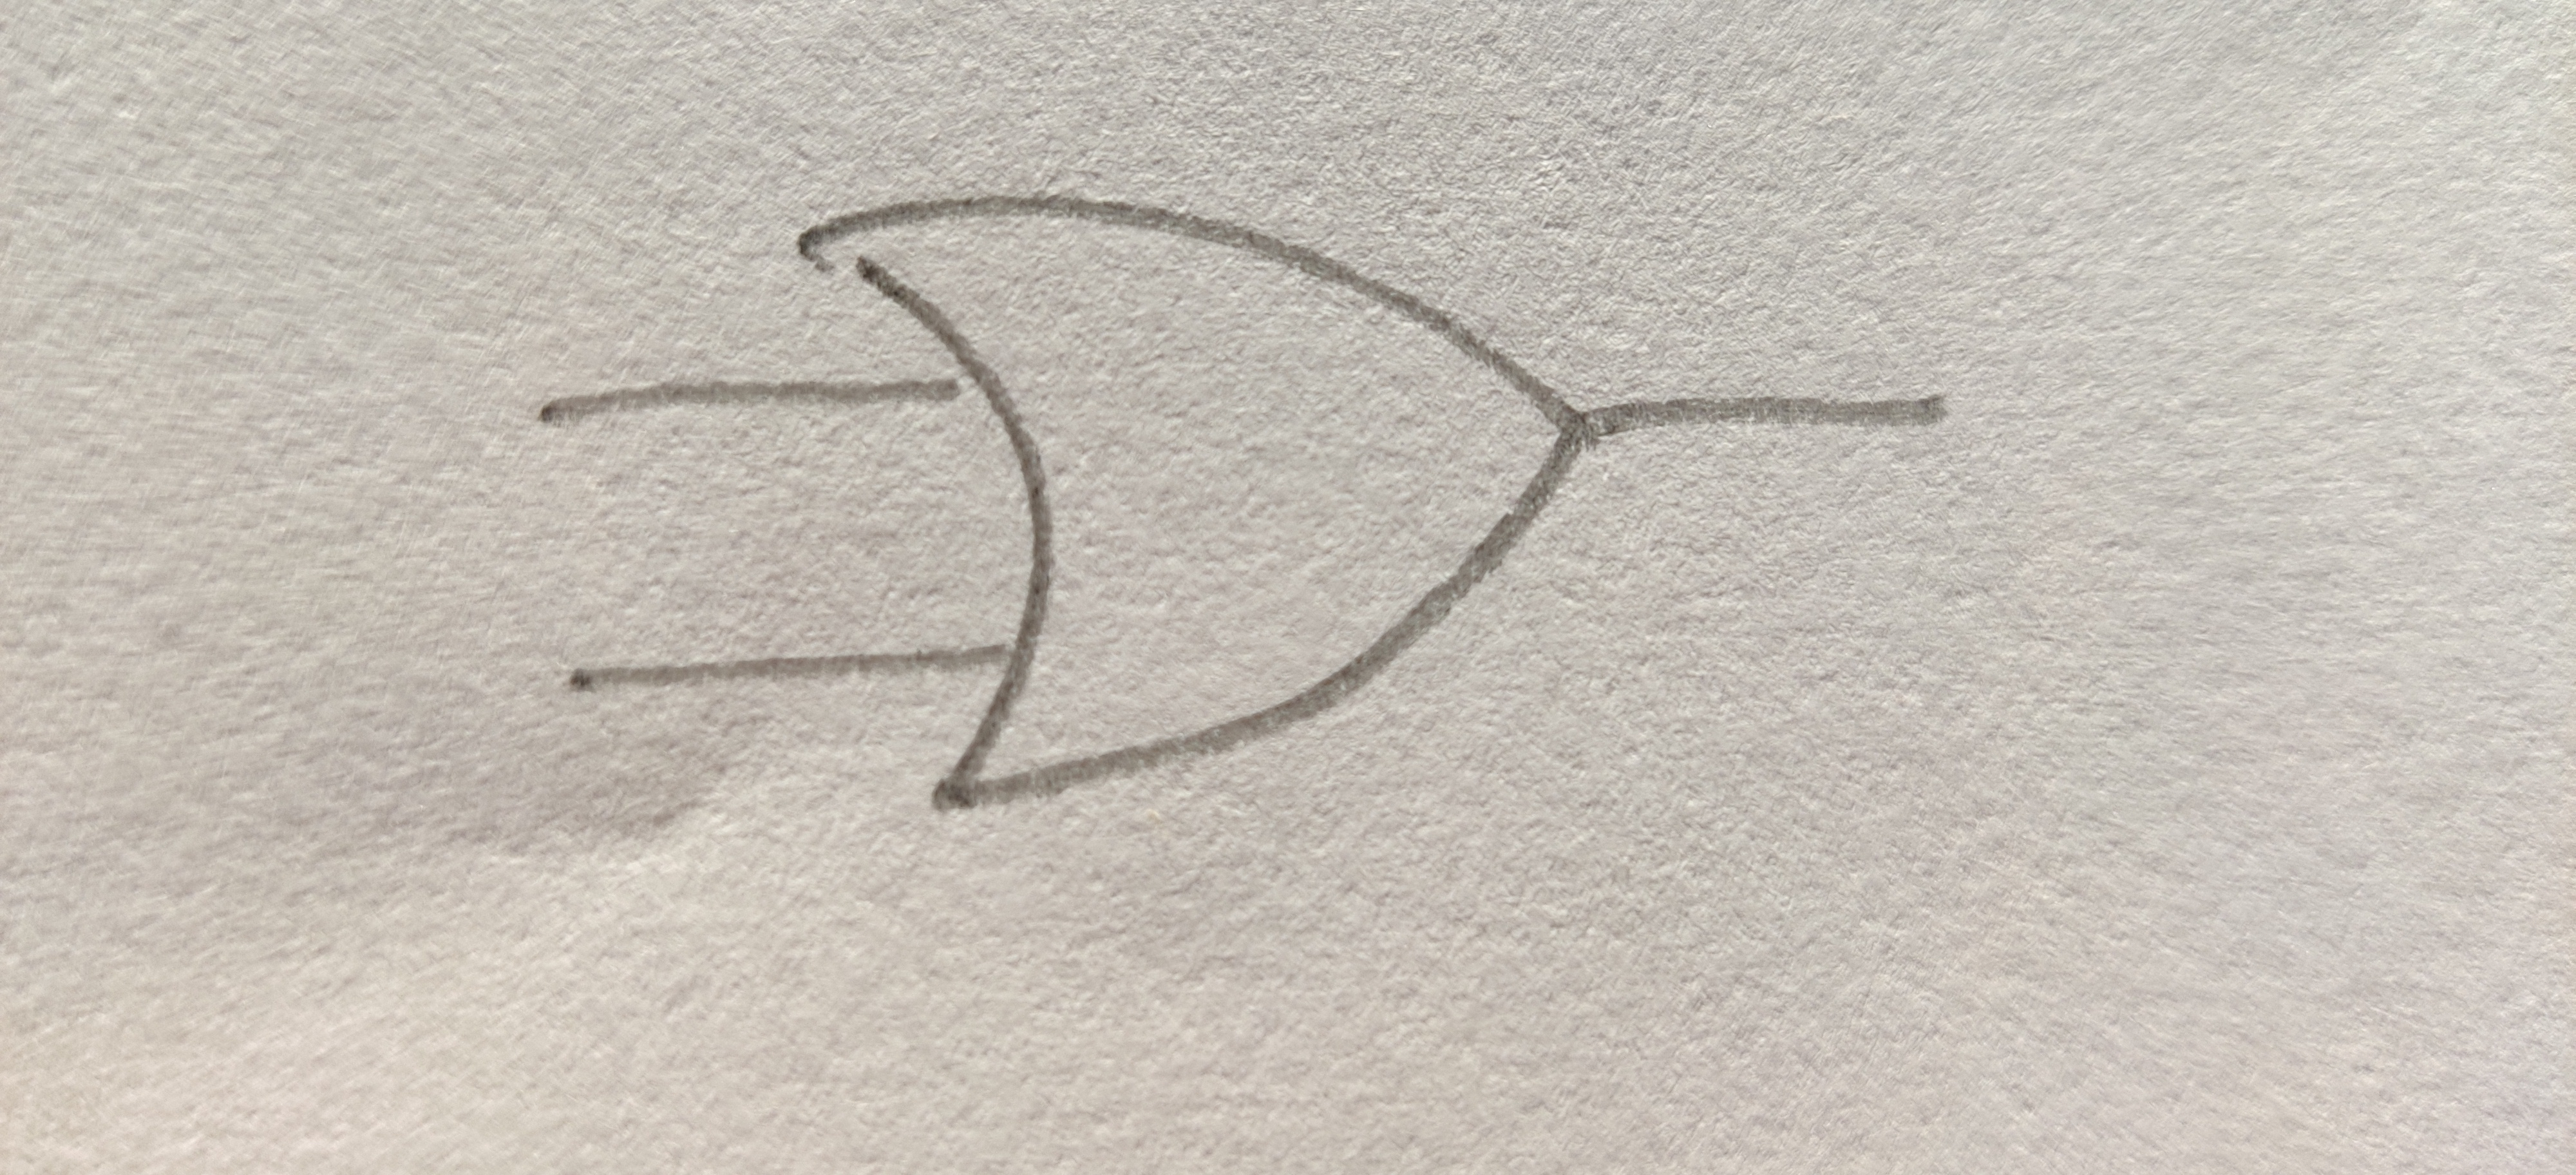or: (797, 196, 1585, 805)
